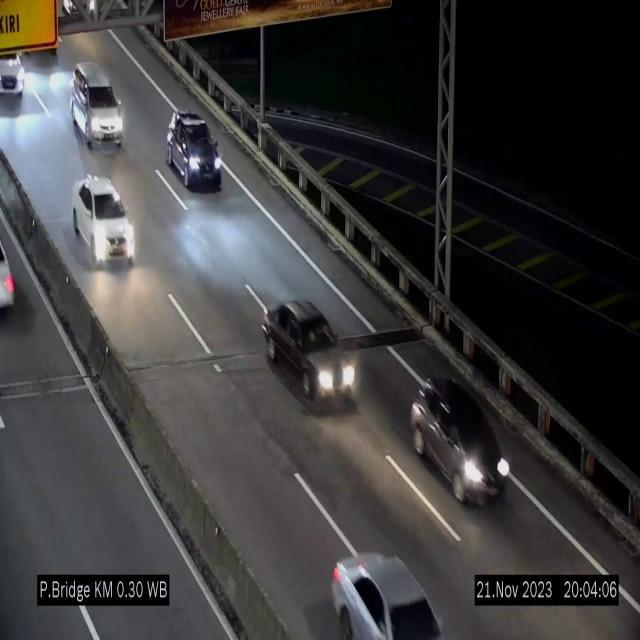Car: (409, 371, 511, 522), (261, 292, 359, 410), (331, 553, 446, 638), (73, 175, 135, 268), (166, 110, 222, 190), (72, 64, 124, 150), (0, 46, 30, 107)
